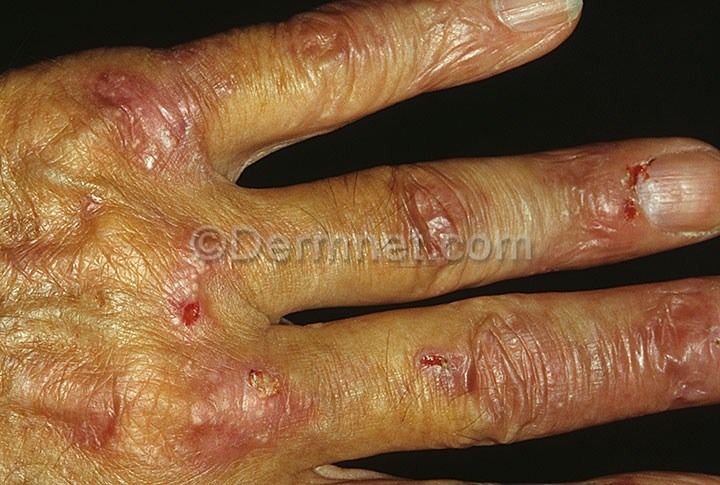Melasma: (438, 60, 720, 228), (595, 109, 720, 451), (251, 0, 410, 26)
